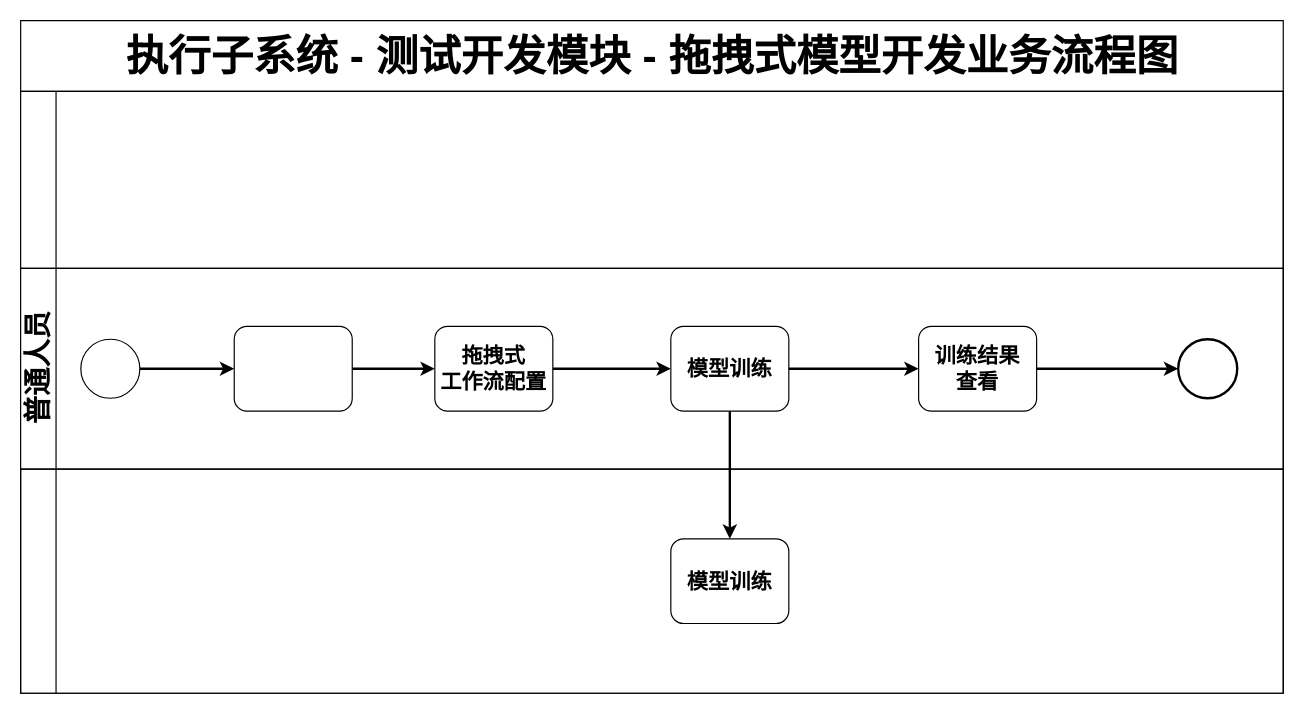
The diagram is 1304 pixels wide and 714 high, and some of its shapes have lost their labels. Each missing label, with the box of its shape:
拖拽式模型开发: (19, 468, 1283, 693)
用户登录: (233, 325, 352, 411)
系统管理员: (19, 90, 1283, 268)
